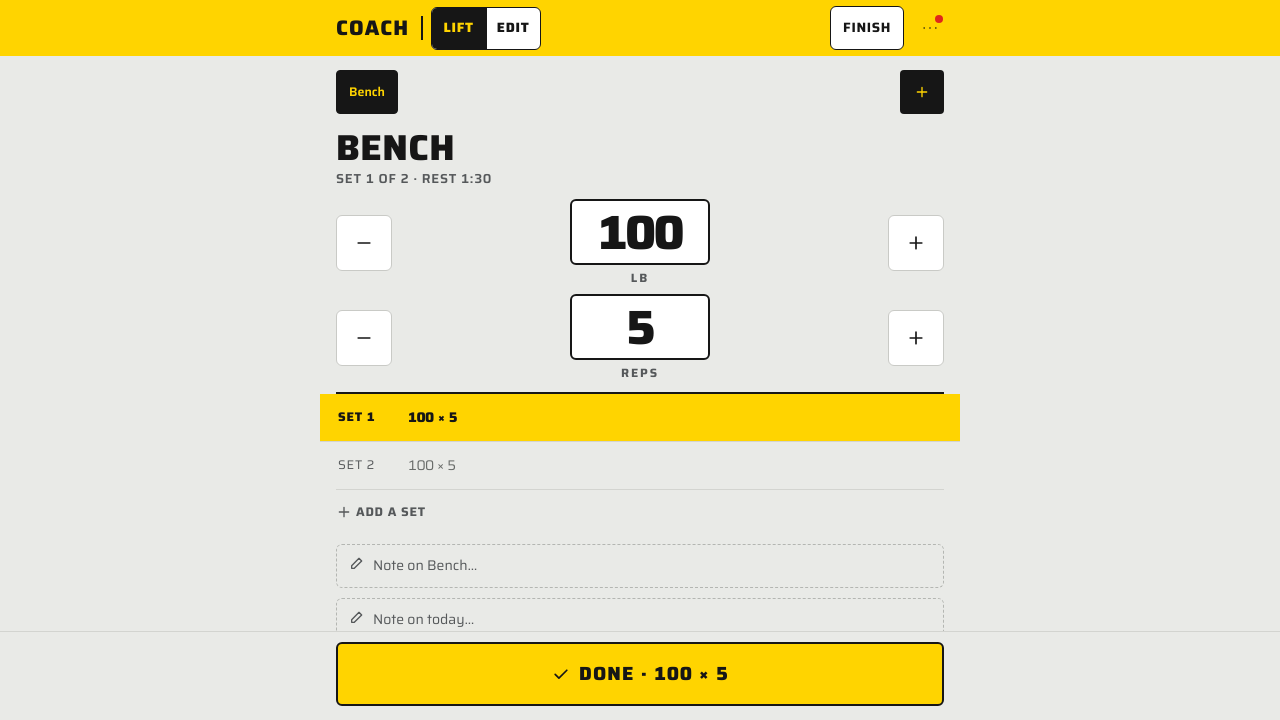
Test: TrackView › starts the rest on the Done tap, without waiting for the save
Click the button "Done · 100 × 5" at (640, 674), box [336,642,944,706]
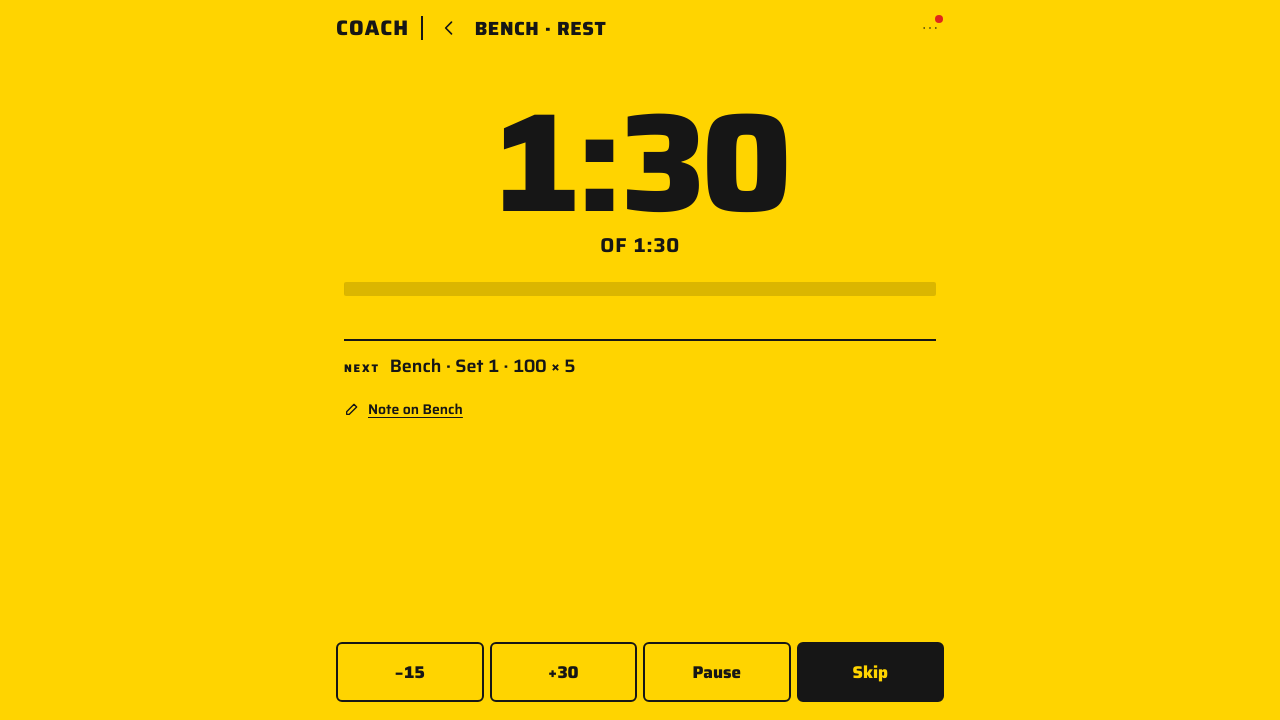
expect the element with class "rest" is shown: met
